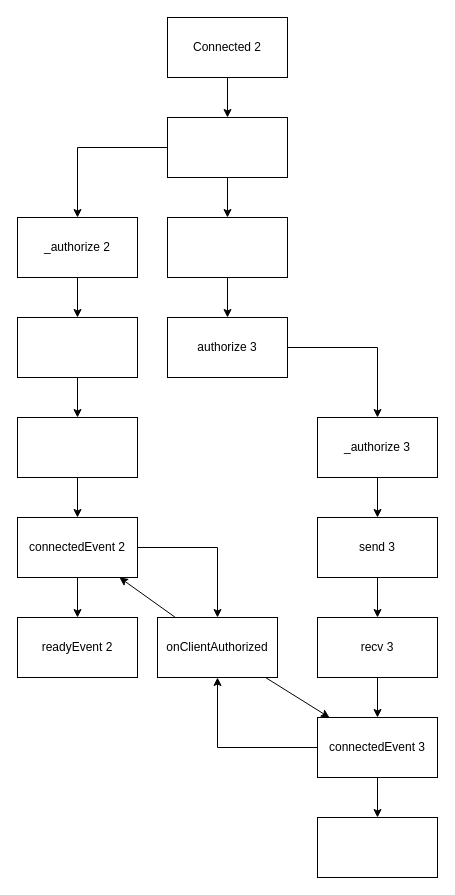
The diagram is 455 pixels wide and 895 high, and some of its shapes have lost their labels. Here are the shapes that lost their labels. From the top down, the box of each, then its label:
(166, 116, 288, 178): authorize 2
(166, 216, 288, 278): Connected 3
(16, 316, 138, 378): send 2
(16, 416, 138, 478): recv 2
(316, 816, 438, 878): readyEvent 3
